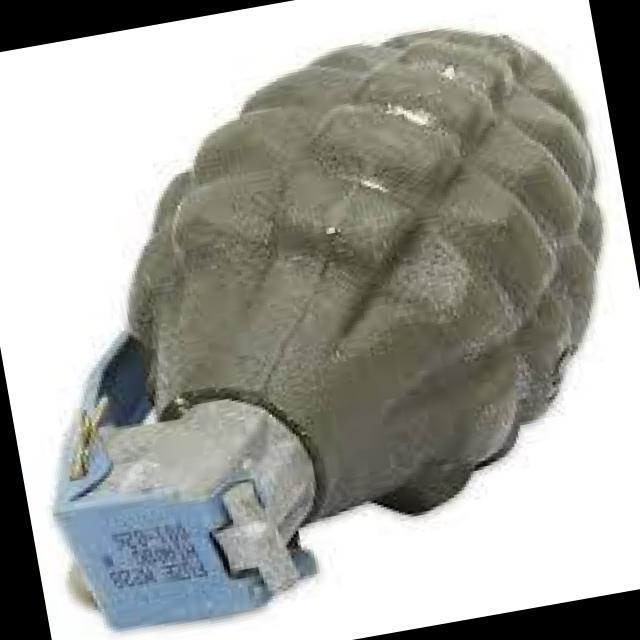grenade: (0, 11, 640, 640)
